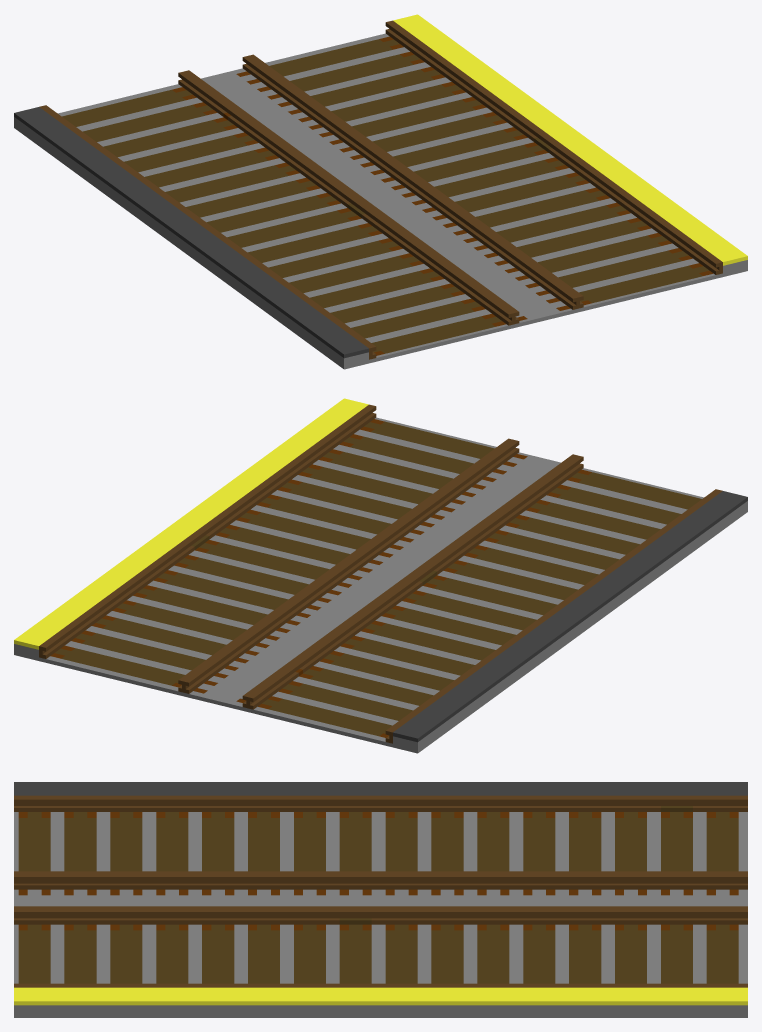
Rendered from Trainvasion Moterman-14-StreetCar track.obj.
3 views of the same model, one above another, from view 1: azimuth 30°, elevation 25°; view 2: azimuth 150°, elevation 25°; view 3: azimuth 270°, elevation 25° (orthographic). The views are drawn at different scales.
Parts seen in each view (by area): view 1: StreetCar track; view 2: StreetCar track; view 3: StreetCar track.
Part boxes in pixels (<box>): StreetCar track: <box>14,14,747,369</box>; StreetCar track: <box>14,398,747,753</box>; StreetCar track: <box>14,782,747,1017</box>.
Size of the model in its own units: 11.3 by 0.4 by 16.
Materials: 1 (1 with a texture image).
